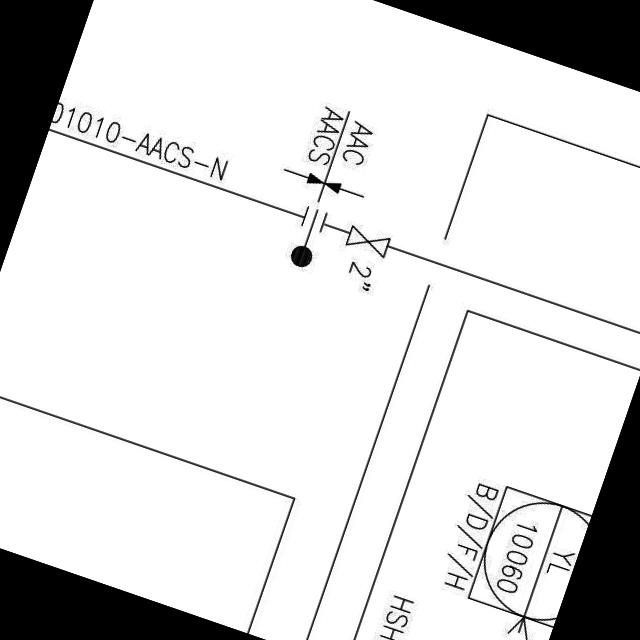GV: (338, 220, 396, 262)
